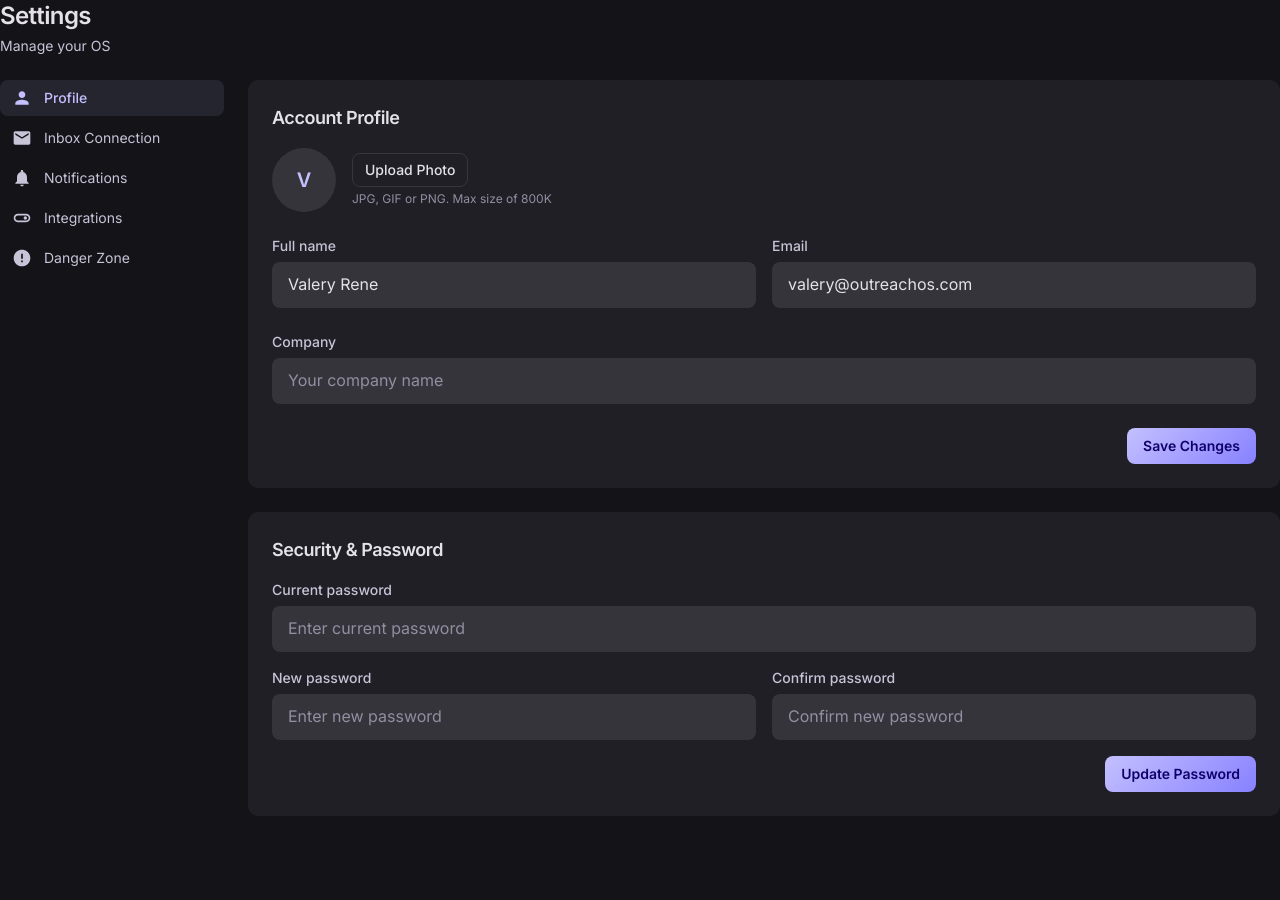
Test: SettingsPage › enables confirm button only after typing DELETE
The width and height of the screenshot is (1280, 900).
Click the button "Danger Zone" at (112, 258), box [0,240,224,276]
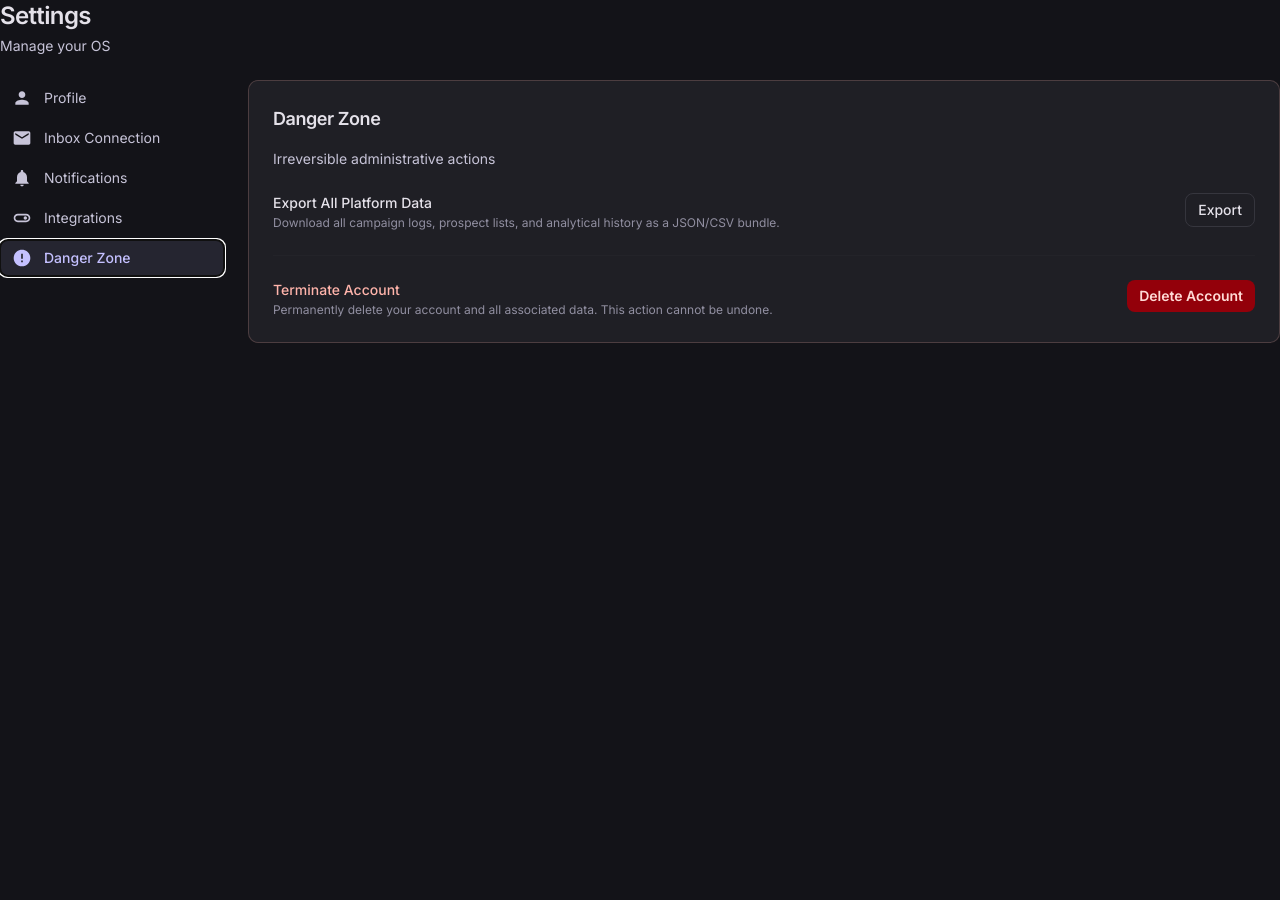
Click the button "Delete Account" at (1191, 296), box [1127,280,1255,312]
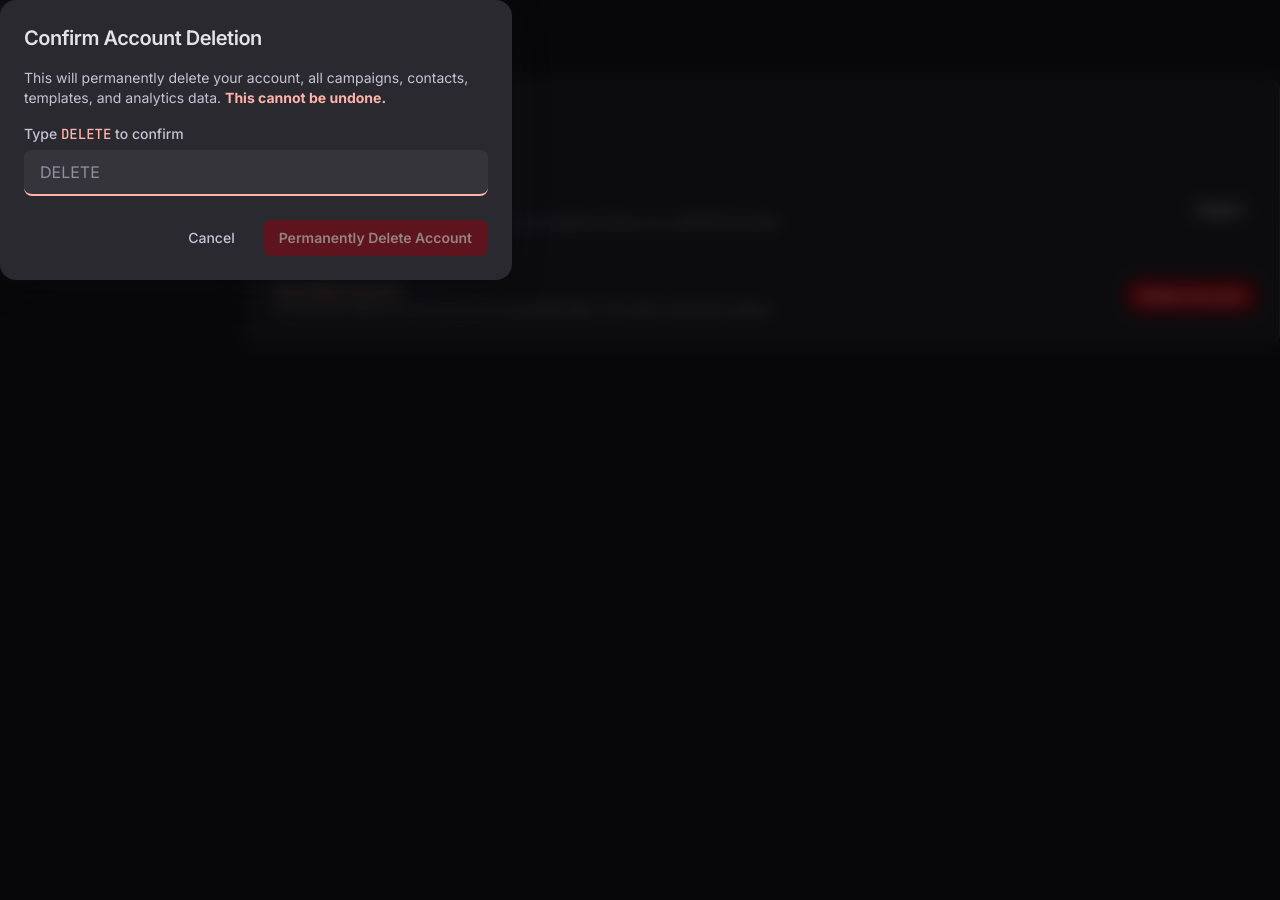
Expected: the button "Permanently Delete Account" is disabled, [263,220,488,256]
Type "DELET" into the field labelled "Type DELETE to confirm" at (256, 173), box [24,150,488,196]
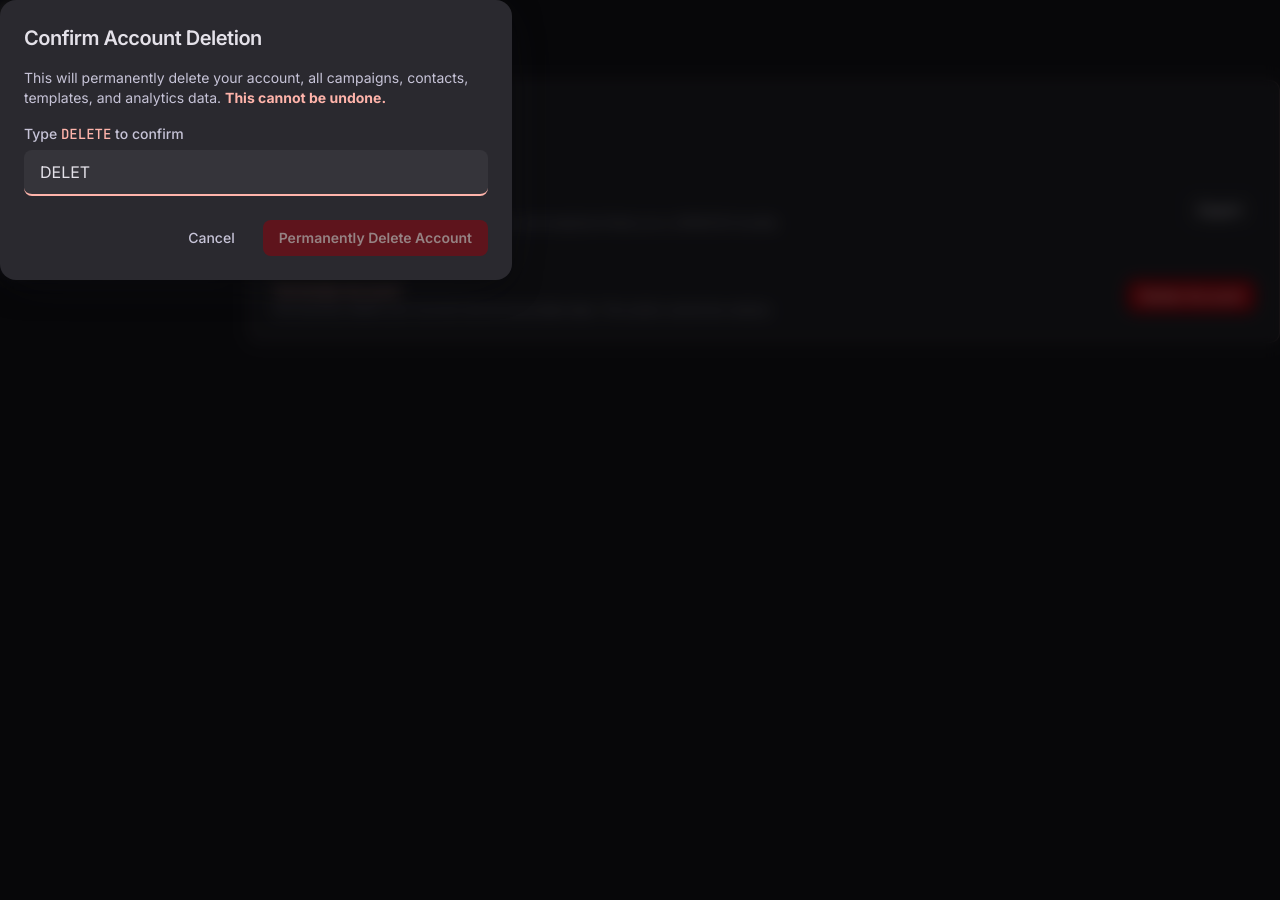
Expected: the button "Permanently Delete Account" is disabled, [263,220,488,256]
Replace the text in the field labelled "Type DELETE to confirm" with "DELETE" at (256, 173), box [24,150,488,196]
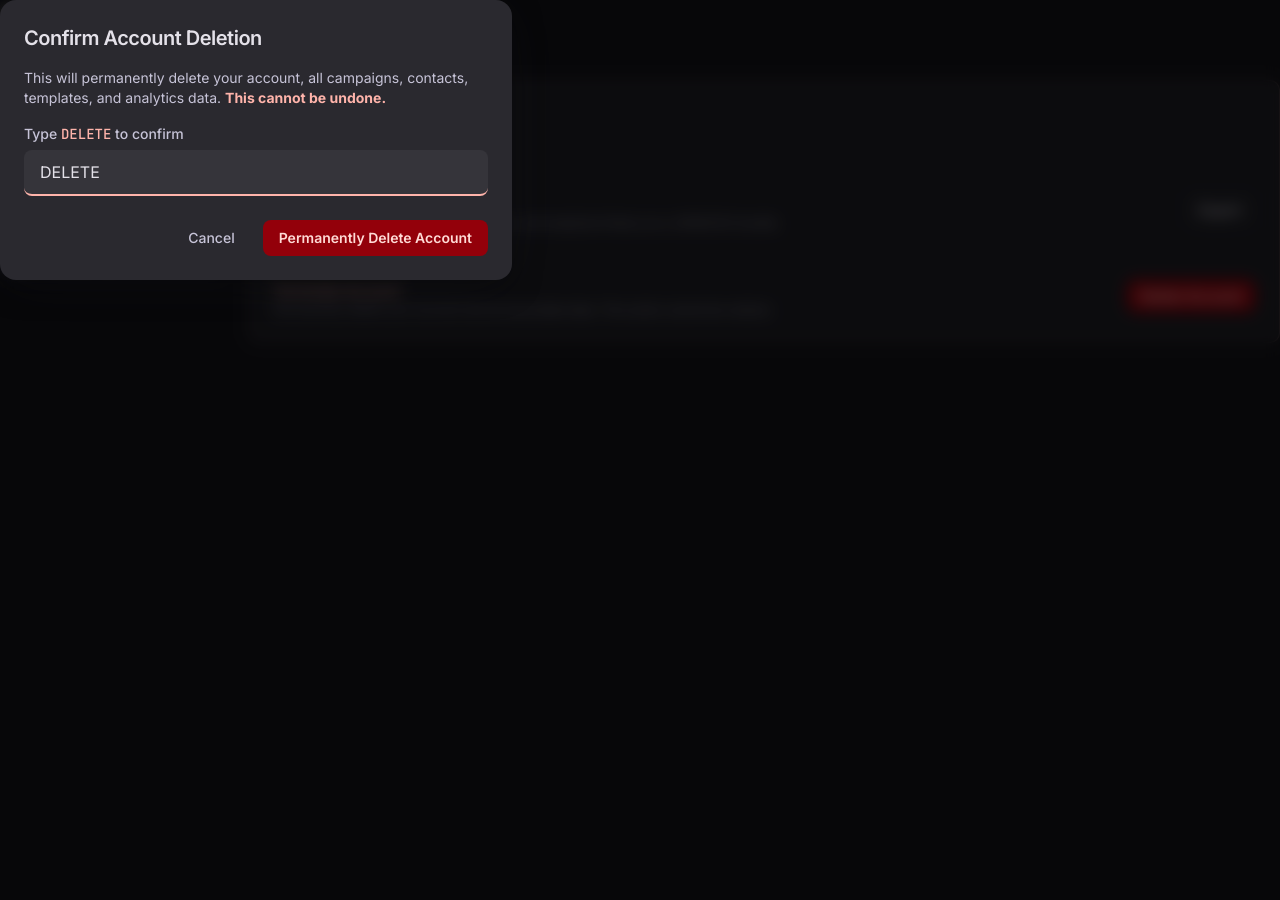
Expected: the button "Permanently Delete Account" is enabled, [263,220,488,256]
